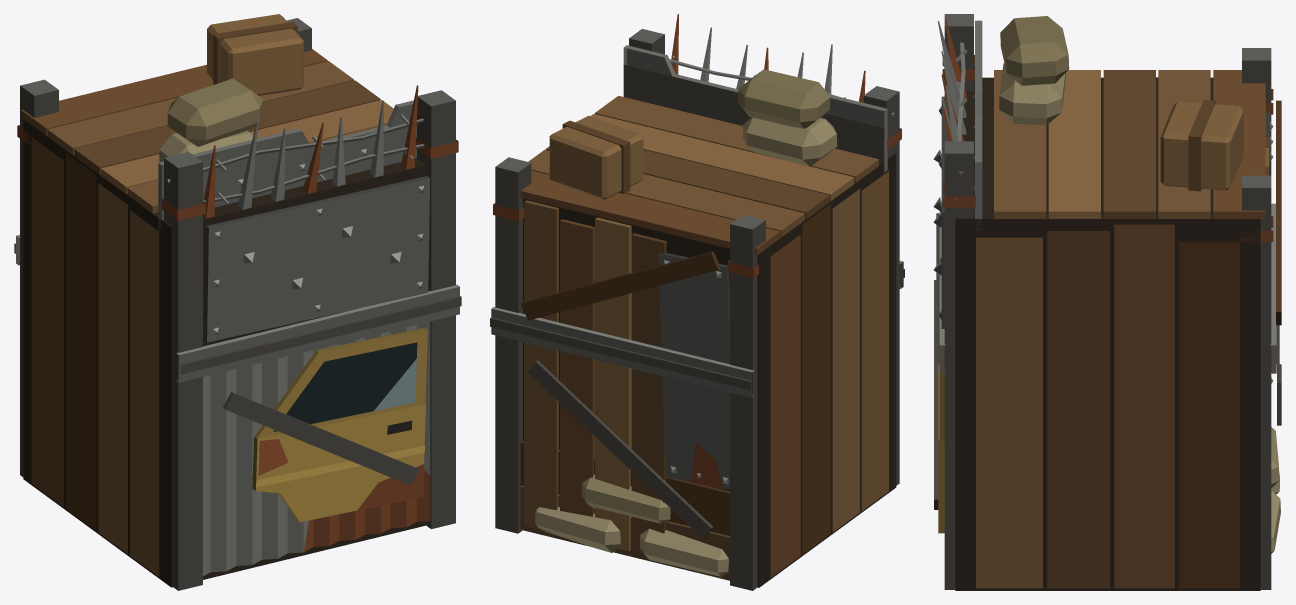
Rendered from muro_reforcado_2.glb.
3 views of the same model, side by side, from view 1: azimuth 30°, elevation 25°; view 2: azimuth 150°, elevation 25°; view 3: azimuth 270°, elevation 25° (orthographic). The views are drawn at different scales.
Visible parts, largest first — view 1: muro_reforcado_2.001; view 2: muro_reforcado_2.001; view 3: muro_reforcado_2.001.
Part boxes in pixels (left/top/right/bottom): muro_reforcado_2.001: left=14, top=14, right=461, bottom=590; muro_reforcado_2.001: left=490, top=14, right=904, bottom=590; muro_reforcado_2.001: left=933, top=14, right=1281, bottom=590.
Size of the model in its own units: 1.62 by 2.47 by 1.66.
